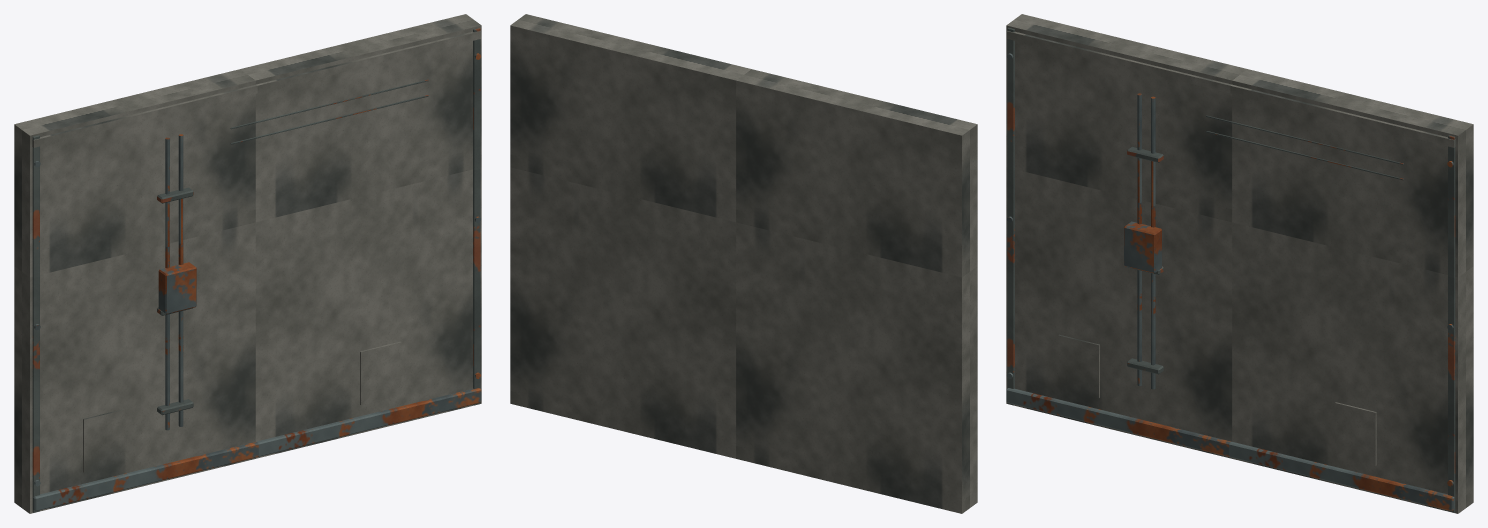
Rendered from wall_solid_4m_v03.glb.
The picture shows the model from 3 angles, left to right: view 1: azimuth 30°, elevation 25°; view 2: azimuth 150°, elevation 25°; view 3: azimuth 330°, elevation 25°; orthographic projection.
Parts seen in each view (by area): view 1: concrete_combined, steel_combined, roof_combined; view 2: concrete_combined; view 3: concrete_combined, steel_combined, roof_combined.
Boxes of the visible parts, x1=… form: concrete_combined: x1=14, y1=14, x2=481, y2=513; steel_combined: x1=33, y1=53, x2=481, y2=511; roof_combined: x1=32, y1=27, x2=480, y2=512; concrete_combined: x1=510, y1=14, x2=977, y2=513; concrete_combined: x1=1006, y1=14, x2=1473, y2=513; steel_combined: x1=1006, y1=53, x2=1454, y2=511; roof_combined: x1=1007, y1=27, x2=1455, y2=512.
Size of the model in its own units: 4 by 3.2 by 0.385.
Materials: 3 (3 with a texture image).
